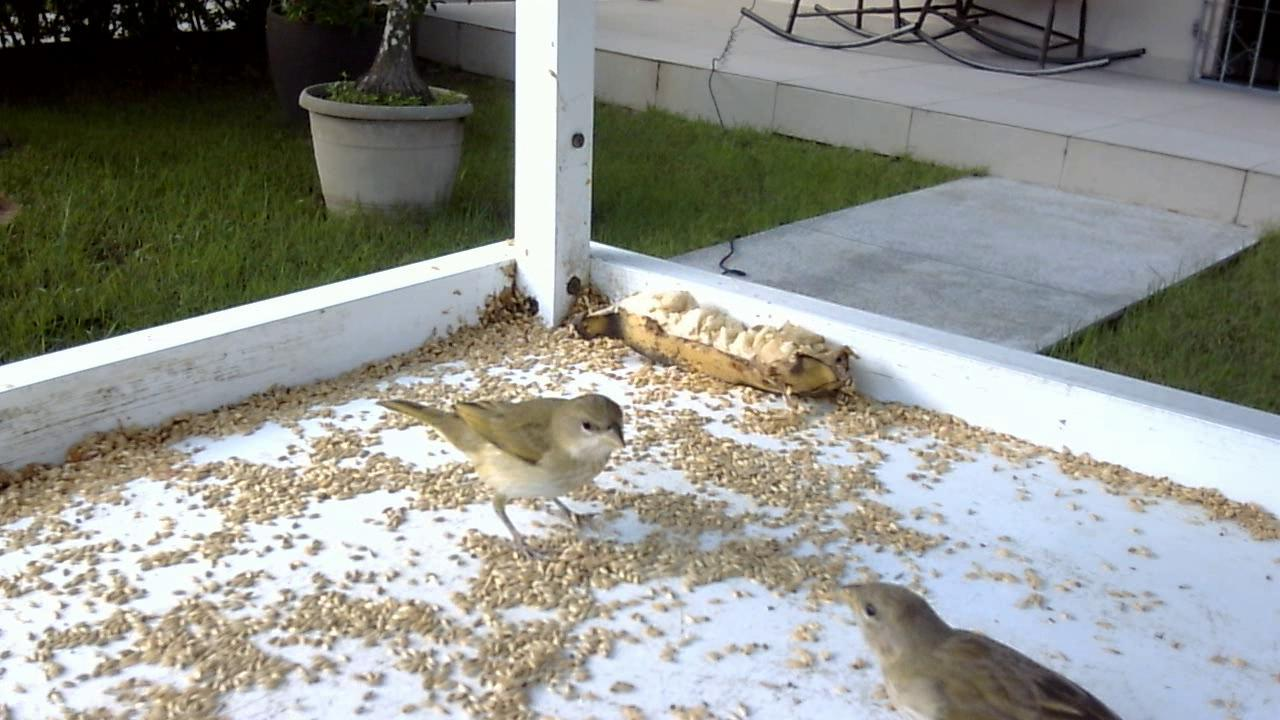canario_do_amazonas: (375, 382, 633, 565), (829, 573, 1134, 718)
